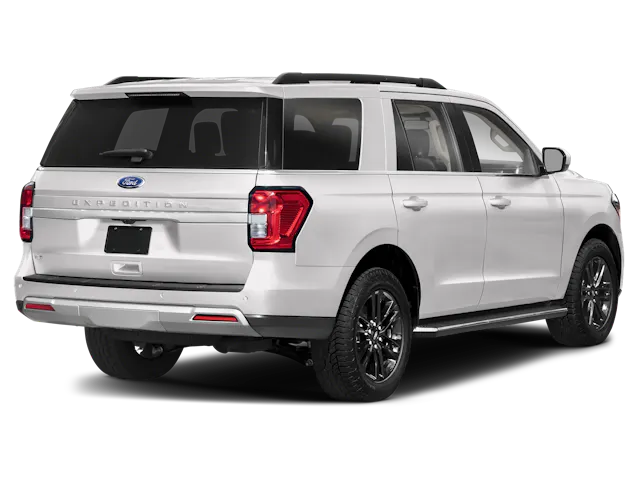car: (13, 66, 631, 406)
